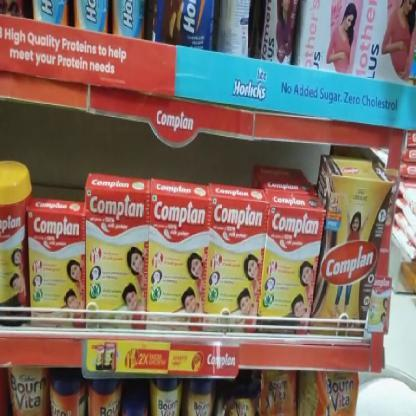Complan Kesar Badam: (87, 189, 147, 323), (148, 193, 207, 328), (209, 193, 266, 332), (29, 208, 85, 330)
Complan Royal Chocolate: (323, 180, 386, 335), (266, 203, 326, 332), (0, 157, 31, 324)
